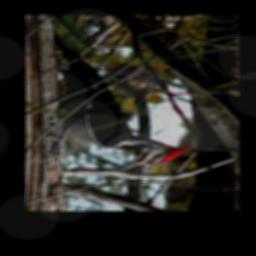Woodpecker: (44, 29, 191, 172)
